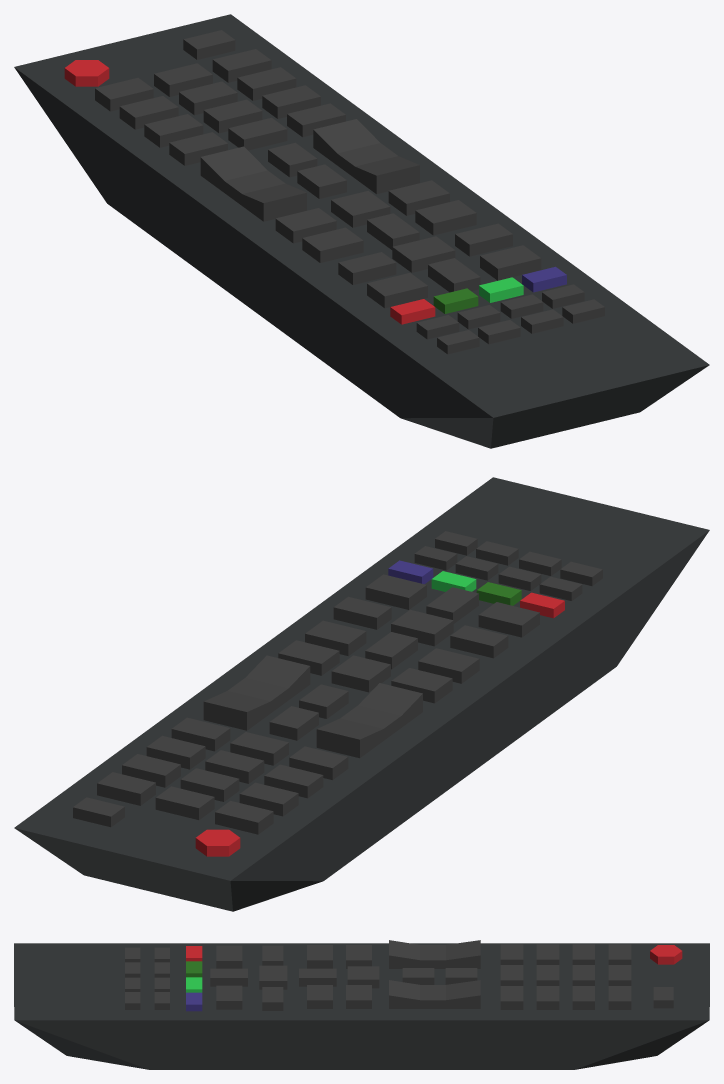
The model's file is remote.fbx.
The picture shows the model from 3 angles, top to bottom: view 1: azimuth 30°, elevation 25°; view 2: azimuth 150°, elevation 25°; view 3: azimuth 270°, elevation 25°; orthographic projection. The views are drawn at different scales.
Parts seen in each view (by area): view 1: Remote; view 2: Remote; view 3: Remote.
Part boxes in pixels (x1,y1,x2,y2): Remote: [14, 14, 709, 448]; Remote: [14, 477, 709, 911]; Remote: [14, 940, 709, 1069].
Size of the model in its own units: 14.68 by 6.58 by 56.26.
